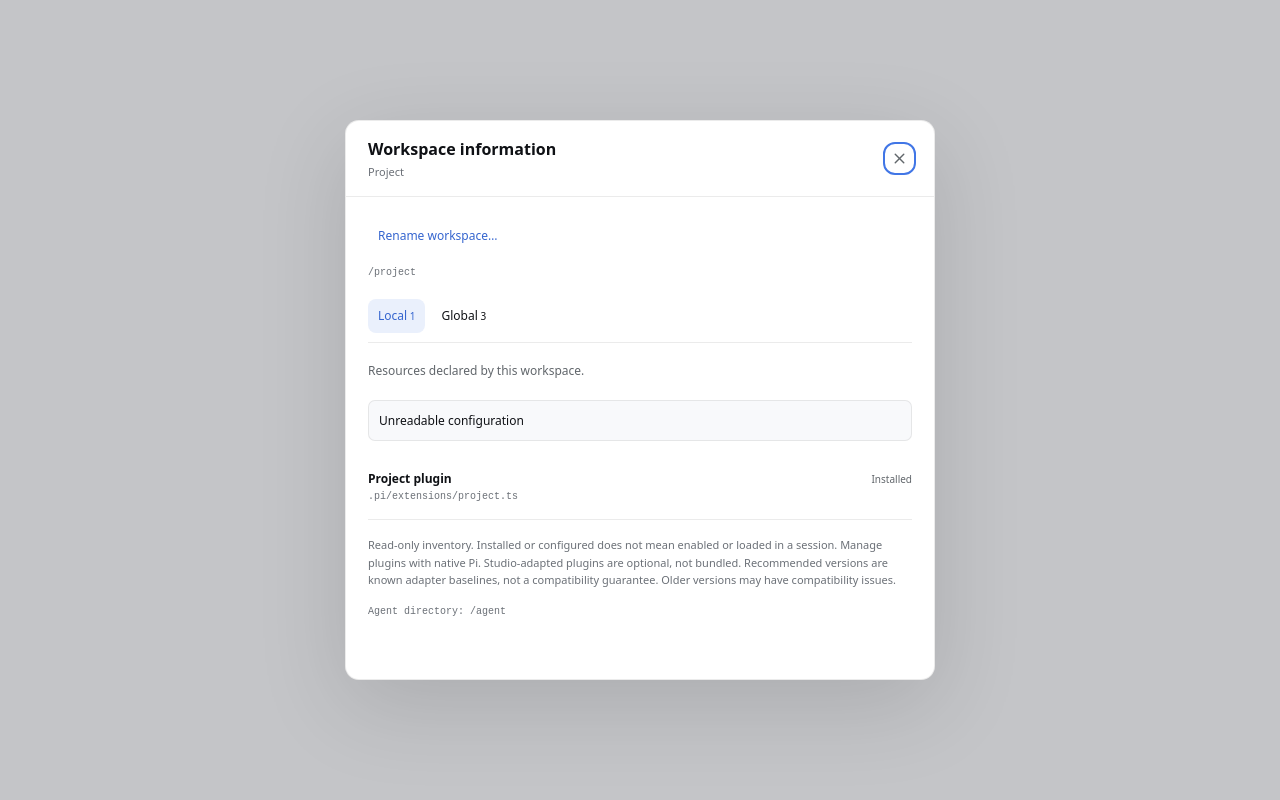
Test: renames inside WorkspaceInfo without hiding plugins and preserves errors for retry
Check: the text "Project plugin" is shown, box [368,469,452,488]
Click the button "Rename workspace…" at (438, 236), box [368,219,507,252]
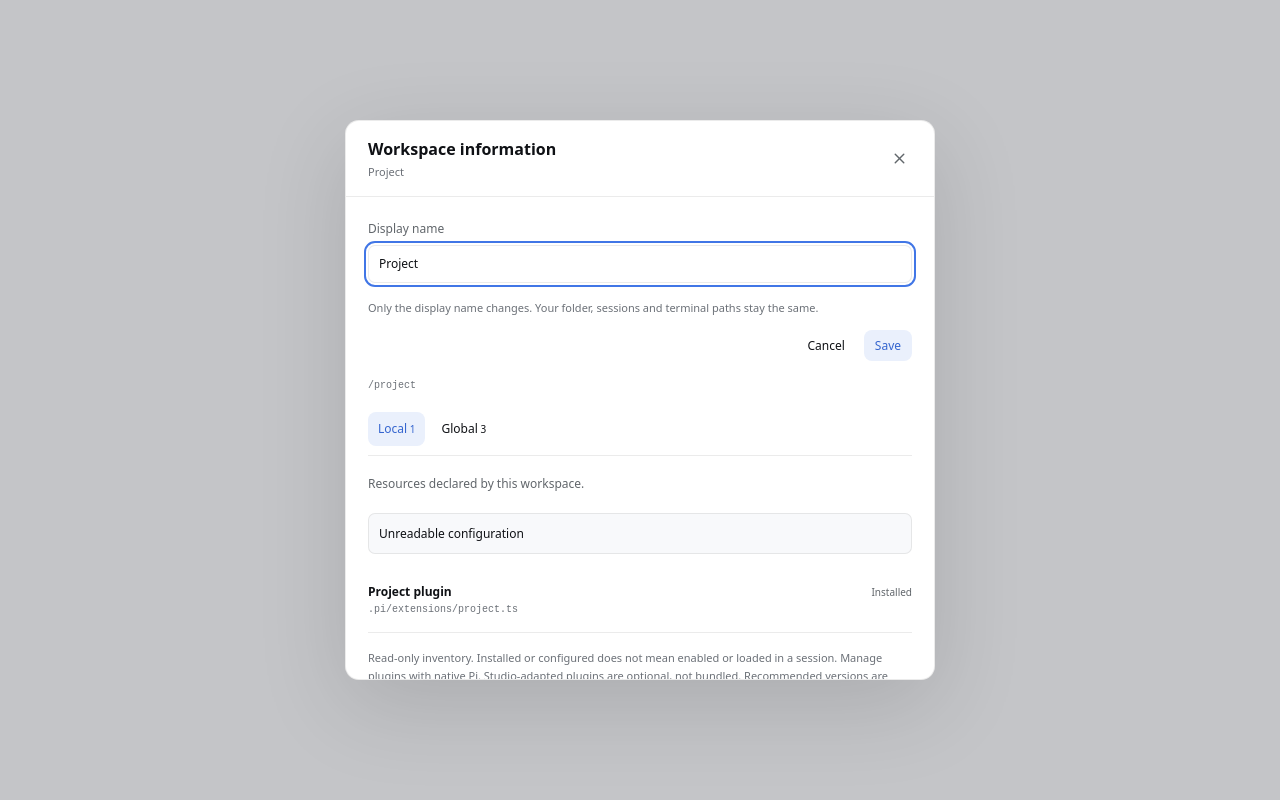
Replace the text in the field labelled "Display name" with "  Physics  " at (640, 264), box [368,245,912,283]
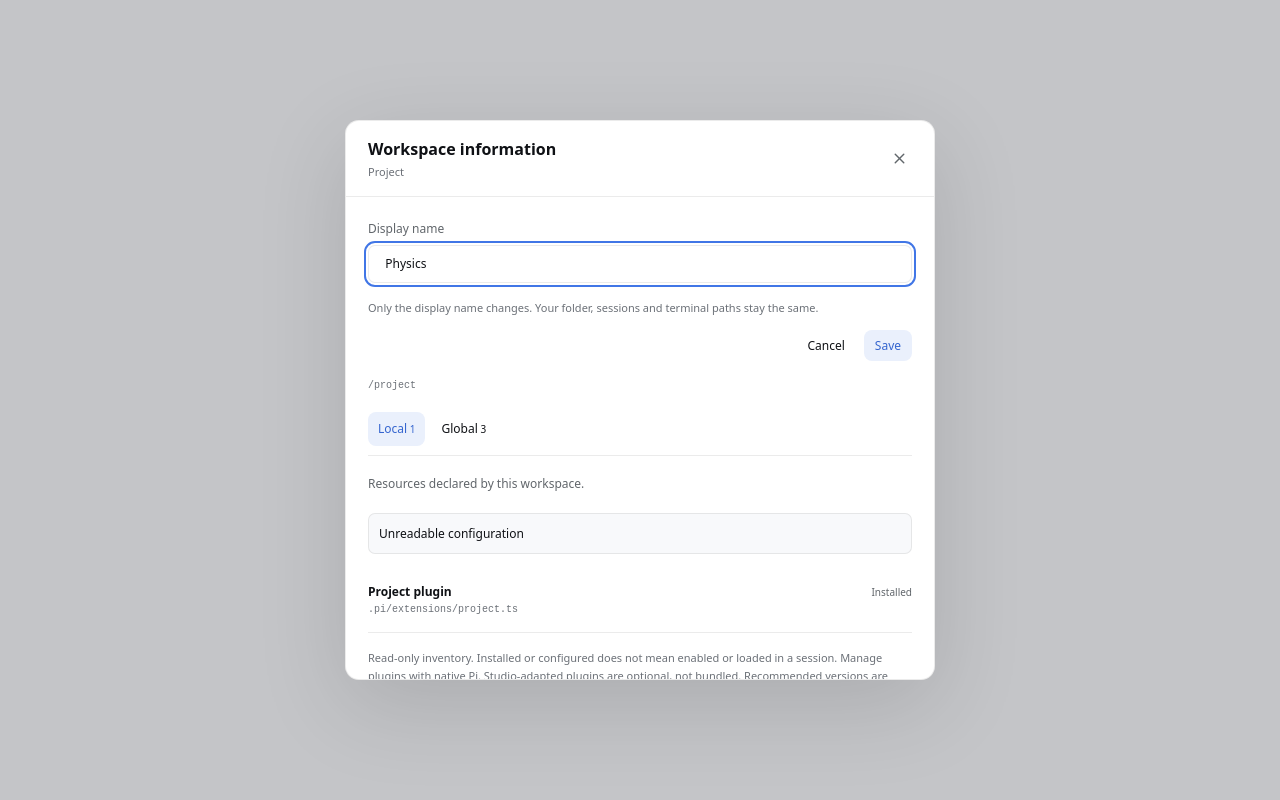
Click the button "Save" at (888, 346), box [864,330,912,361]
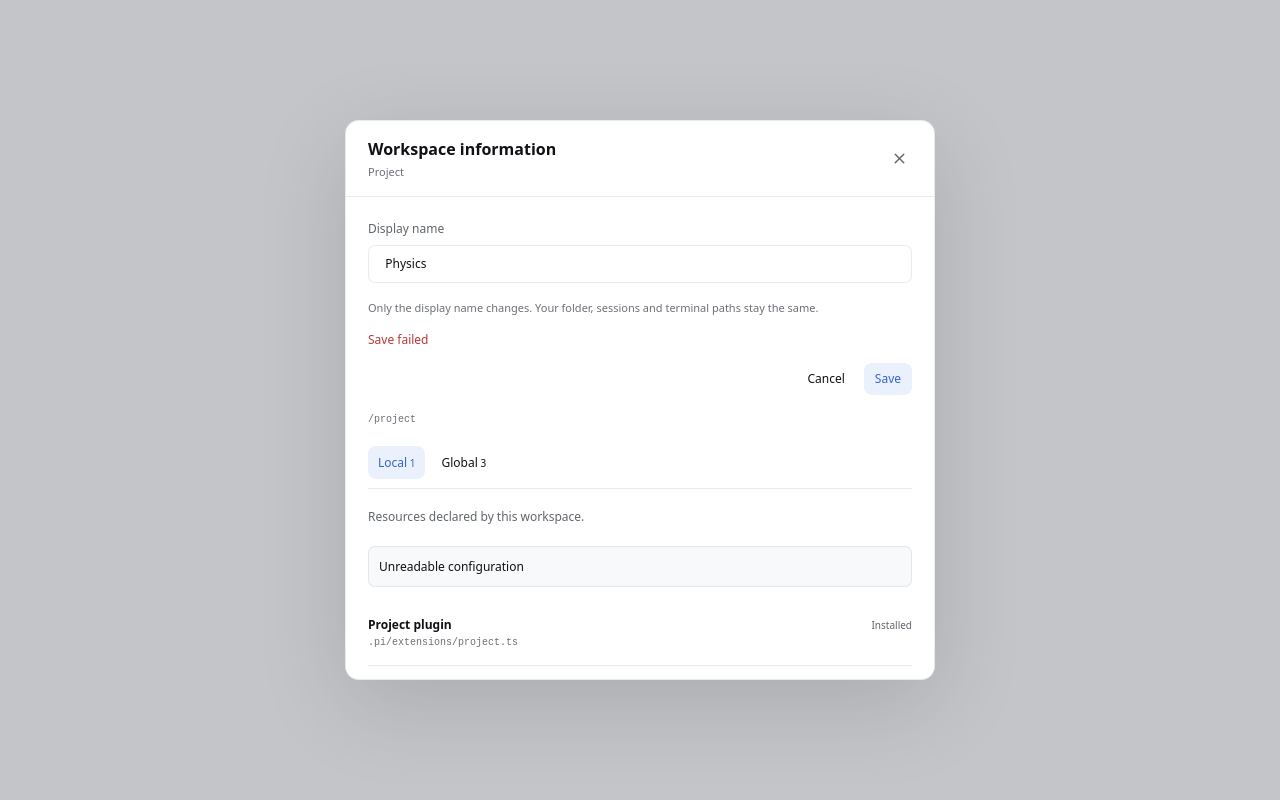
Check: the text "Project plugin" is shown, box [368,615,452,634]
Check: the text "Save failed" is shown, box [368,331,428,348]
Click the button "Save" at (888, 379), box [864,363,912,394]
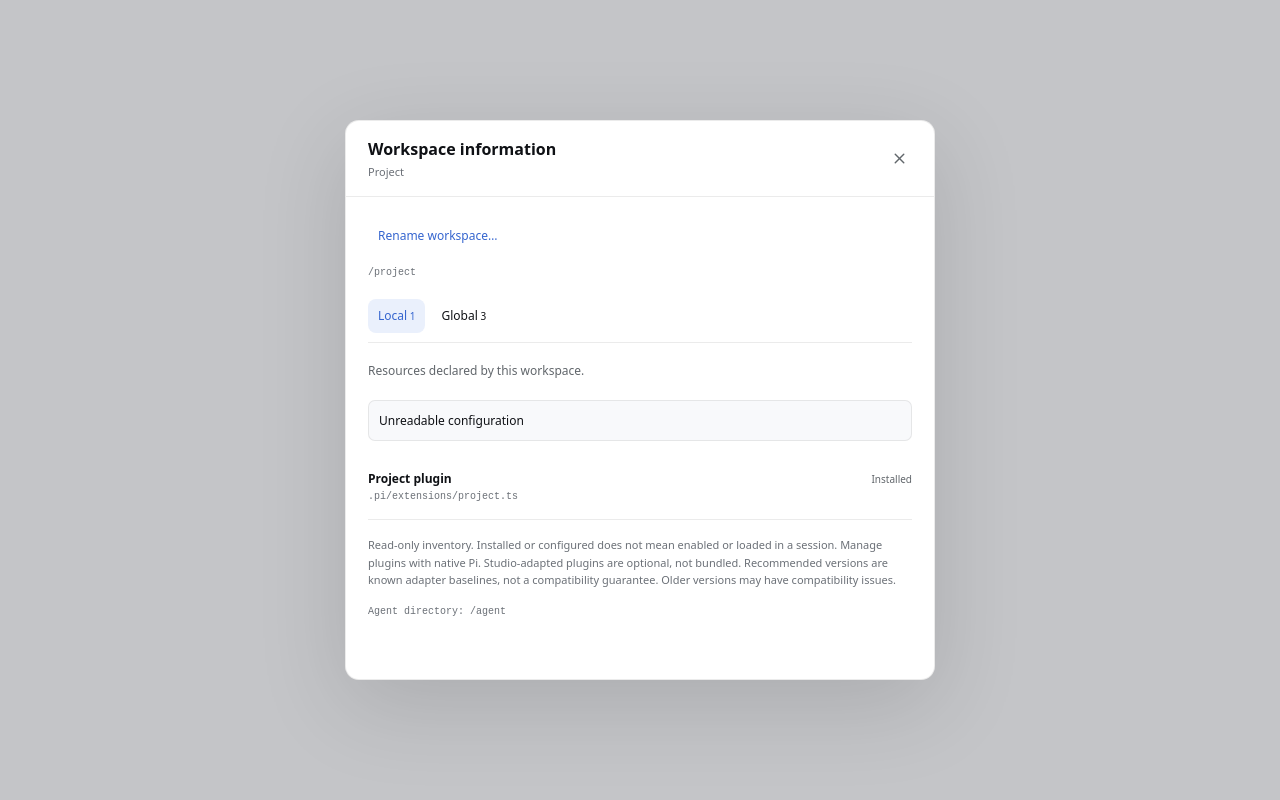
Check: the text "/project" is shown, box [368,267,416,278]
Check: the button "Rename workspace…" is shown, box [368,219,507,252]
